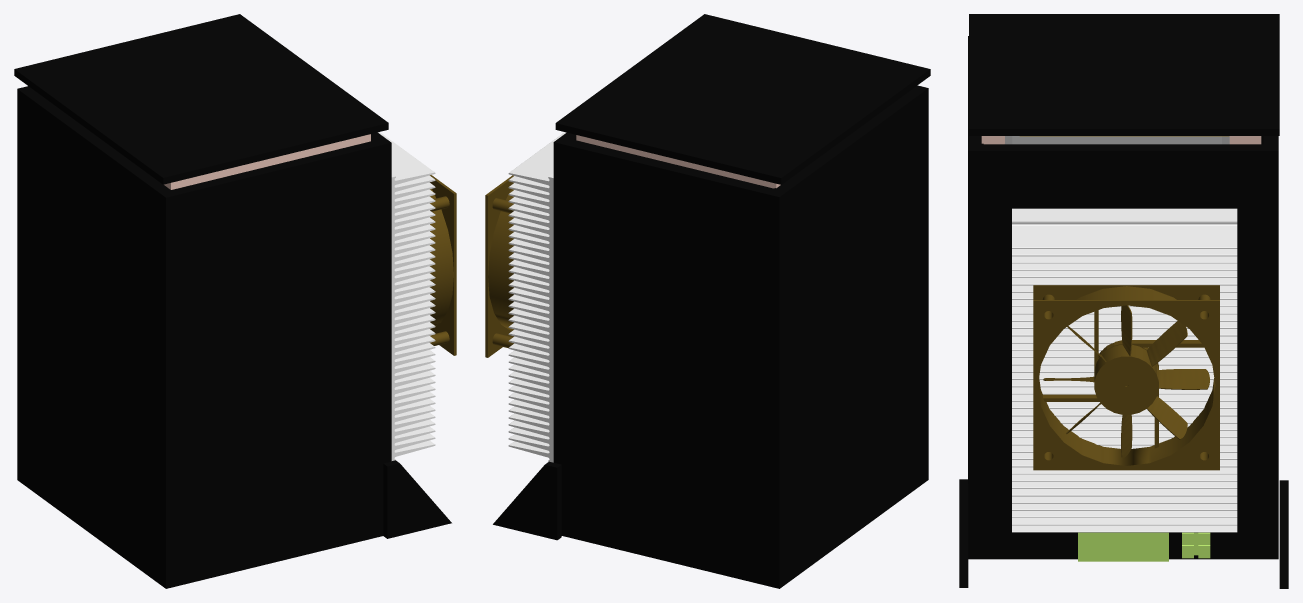
Rendered from CaixaFinalizada.glb.
The picture shows the model from 3 angles, left to right: view 1: azimuth 30°, elevation 25°; view 2: azimuth 150°, elevation 25°; view 3: azimuth 270°, elevation 25°; orthographic projection. The views are drawn at different scales.
Visible parts, largest first — view 1: CorpoCaixa, Tampa_solo, CoolerQuente, Ventilador.001, SuporteLateral, Revestimento; view 2: CorpoCaixa, Tampa_solo, CoolerQuente, Ventilador.001, SuporteLateral.001, Revestimento; view 3: CorpoCaixa, CoolerQuente, Tampa_solo, Ventilador.001, Eletronica, ParedeInterna, SuporteLateral.001, SuporteLateral, Revestimento.
Boxes of the visible parts, box(x1,y1,x2,y2) form: CorpoCaixa: box(17, 86, 391, 588); Tampa_solo: box(14, 14, 388, 184); CoolerQuente: box(378, 132, 435, 460); Ventilador.001: box(430, 175, 456, 355); SuporteLateral: box(383, 460, 451, 538); Revestimento: box(164, 134, 370, 189); CorpoCaixa: box(553, 85, 928, 588); Tampa_solo: box(555, 14, 930, 184); CoolerQuente: box(508, 132, 566, 462); Ventilador.001: box(485, 175, 513, 357); SuporteLateral.001: box(493, 461, 561, 540); Revestimento: box(576, 135, 780, 188); CorpoCaixa: box(968, 36, 1278, 559); CoolerQuente: box(1012, 208, 1237, 532); Tampa_solo: box(969, 14, 1279, 136); Ventilador.001: box(1033, 285, 1219, 470); Eletronica: box(1078, 532, 1210, 561); ParedeInterna: box(1005, 136, 1229, 144); SuporteLateral.001: box(1279, 480, 1288, 588); SuporteLateral: box(959, 479, 968, 587); Revestimento: box(981, 136, 1261, 144).
Size of what is drawn, in the model's own units: 1.26 by 1.53 by 1.06.
